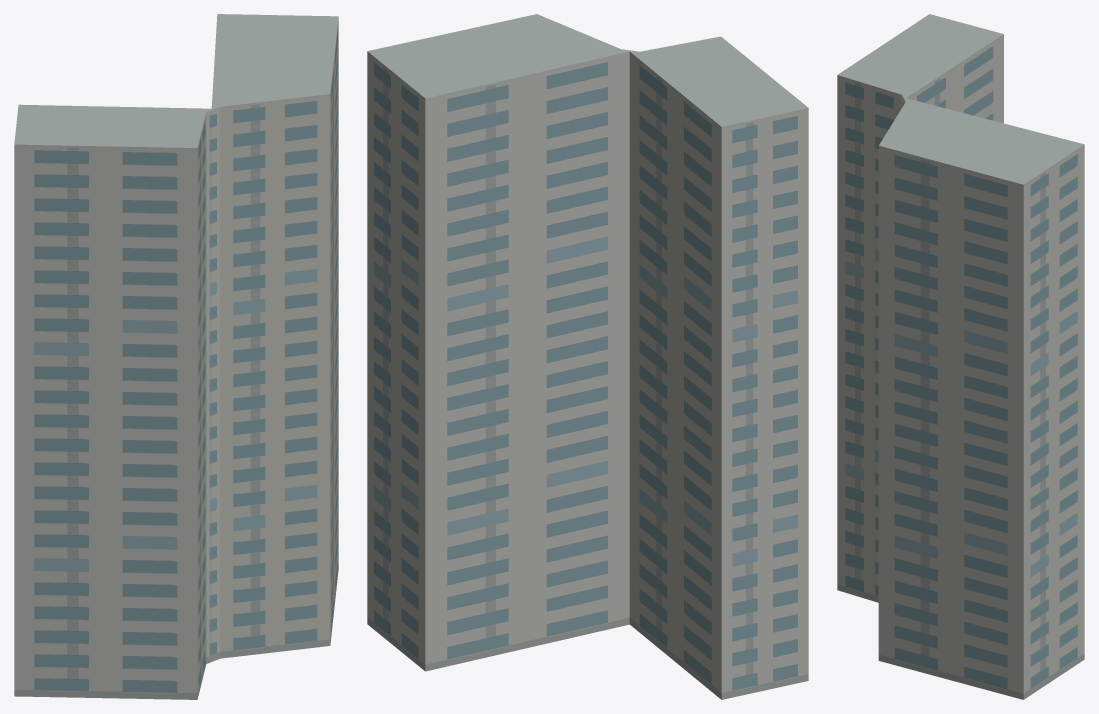
File: residential-d7cdd1ab-c8f2-4546-aaf5-f24d4ca67951.glb
3 renders of one model, left to right at view 1: azimuth 30°, elevation 25°; view 2: azimuth 150°, elevation 25°; view 3: azimuth 270°, elevation 25°, orthographic. The views are drawn at different scales.
Visible parts, largest first — view 1: residential-d7cdd1ab-c8f2-4546-aaf5-f24d4ca67951.tmp; view 2: residential-d7cdd1ab-c8f2-4546-aaf5-f24d4ca67951.tmp; view 3: residential-d7cdd1ab-c8f2-4546-aaf5-f24d4ca67951.tmp.
Boxes of the visible parts, box(x1,y1,x2,y2) form: residential-d7cdd1ab-c8f2-4546-aaf5-f24d4ca67951.tmp: box(14, 14, 338, 699); residential-d7cdd1ab-c8f2-4546-aaf5-f24d4ca67951.tmp: box(367, 14, 808, 699); residential-d7cdd1ab-c8f2-4546-aaf5-f24d4ca67951.tmp: box(837, 14, 1084, 699).
Bounding box in the file's own units: 45.49 × 64 × 27.85.
